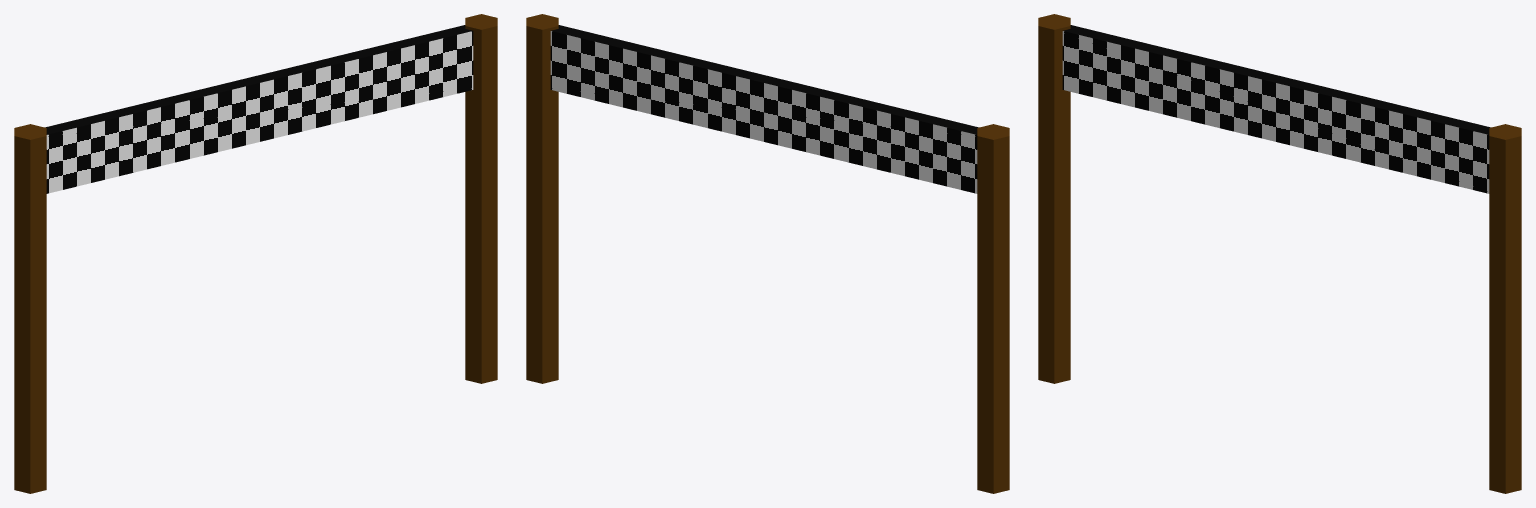
Rendered from finish.gltf.
The picture shows the model from 3 angles, left to right: view 1: azimuth 30°, elevation 25°; view 2: azimuth 150°, elevation 25°; view 3: azimuth 330°, elevation 25°; orthographic projection.
Parts seen in each view (by area): view 1: cuboid, cylinder (×2); view 2: cuboid, cylinder (×2); view 3: cuboid, cylinder (×2).
Part boxes in pixels (box(x1,y1,x2,y2)): cuboid: box(45, 25, 473, 193); cylinder (×2): box(14, 14, 497, 493); cuboid: box(550, 25, 978, 193); cylinder (×2): box(526, 14, 1009, 493); cuboid: box(1062, 25, 1490, 193); cylinder (×2): box(1038, 14, 1521, 493).
Bounding box in the file's own units: 1.07 × 0.75 × 0.0625.
1 material, 1 textured.
